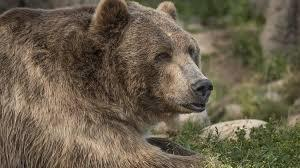bear: (0, 0, 214, 168)
